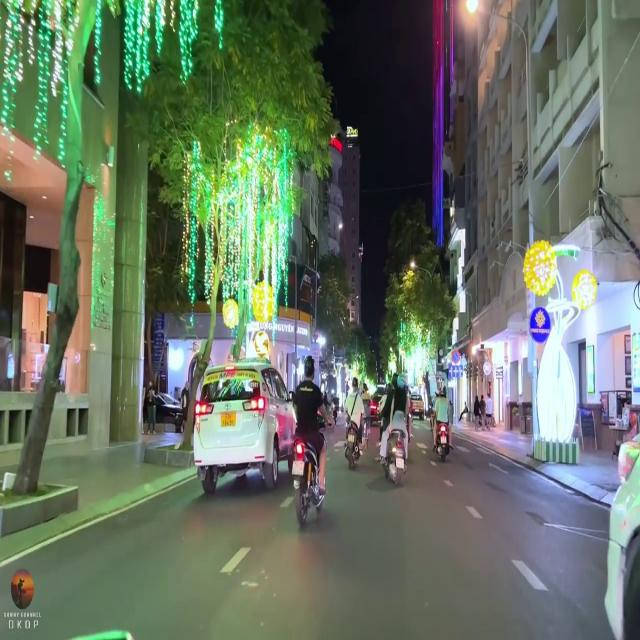bien_trang: (222, 413, 236, 426)
